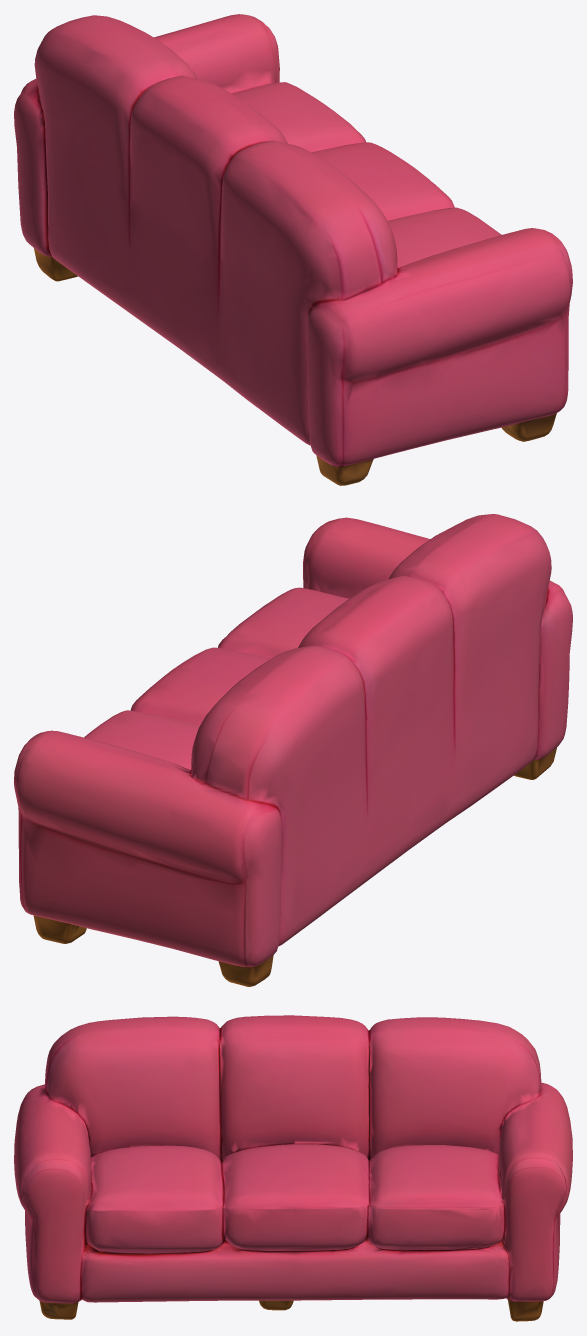
Rendered from sofa.glb.
The picture shows the model from 3 angles, top to bottom: view 1: azimuth 30°, elevation 25°; view 2: azimuth 150°, elevation 25°; view 3: azimuth 270°, elevation 25°; orthographic projection. The views are drawn at different scales.
Parts seen in each view (by area): view 1: tripo_node_1ecbe433-a8c6-4ef0-86a0-a71b286d1ae3; view 2: tripo_node_1ecbe433-a8c6-4ef0-86a0-a71b286d1ae3; view 3: tripo_node_1ecbe433-a8c6-4ef0-86a0-a71b286d1ae3.
Part boxes in pixels (left/top/right/bottom): tripo_node_1ecbe433-a8c6-4ef0-86a0-a71b286d1ae3: left=14, top=14, right=572, bottom=485; tripo_node_1ecbe433-a8c6-4ef0-86a0-a71b286d1ae3: left=14, top=514, right=572, bottom=986; tripo_node_1ecbe433-a8c6-4ef0-86a0-a71b286d1ae3: left=14, top=1015, right=572, bottom=1321.
Size of the model in its own units: 0.4345 by 0.4481 by 0.9996.
Materials: 1 (1 with a texture image).
